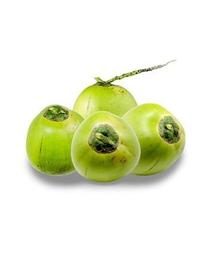coconut: (71, 111, 141, 183), (120, 103, 186, 176), (26, 105, 90, 177), (72, 81, 137, 139)
